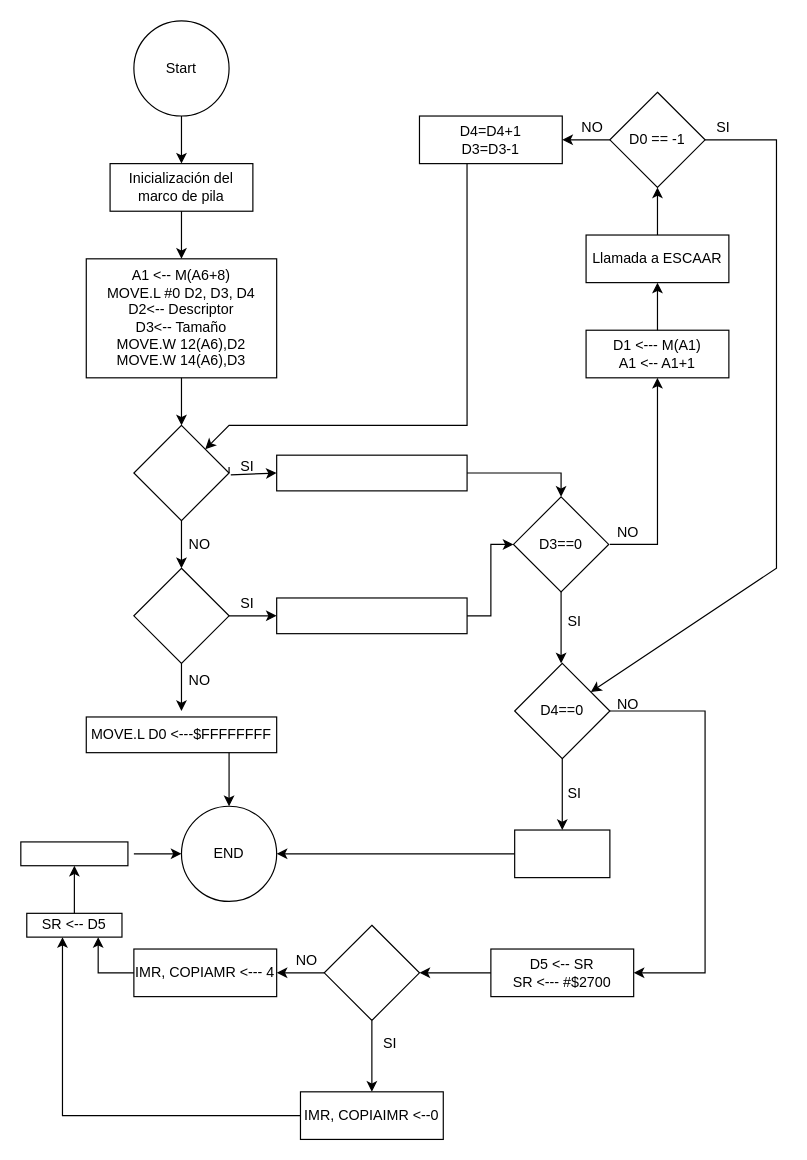
Image size: 807x1160. Some labels were removed from this diagram. Each missing label, with the centre of its shape:
D0 <-- D4: (561,853)
D0 <--- D4: (74,853)
D2==0: (181,472)
D2==1: (181,615)
D6==2: (371,972)
MOVE.L 2, D0 D6 (A): (371,472)
MOVE.L 3 D0, D6 (B): (371,615)
